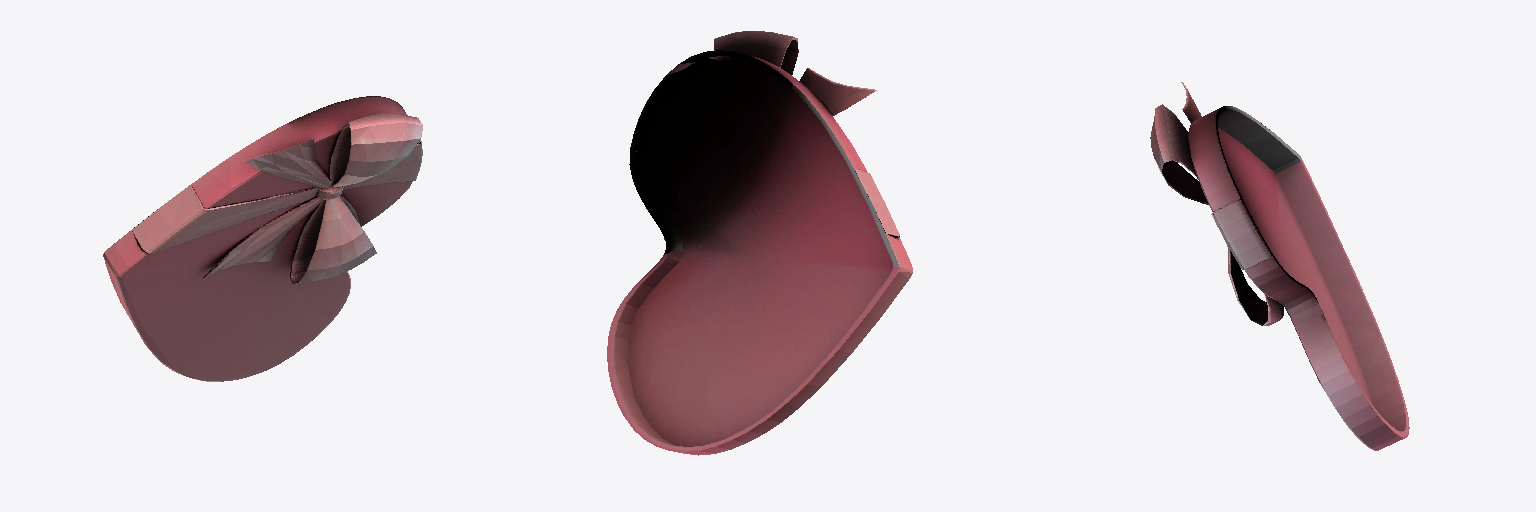
3 renders of one model, left to right at view 1: azimuth 30°, elevation 25°; view 2: azimuth 150°, elevation 25°; view 3: azimuth 270°, elevation 25°, orthographic.
Visible parts, largest first — view 1: dynamic; view 2: dynamic; view 3: dynamic.
Part boxes in pixels (bbox=[...]): dynamic: bbox=[103, 96, 422, 381]; dynamic: bbox=[607, 31, 912, 455]; dynamic: bbox=[1150, 82, 1409, 450].
Size of the model in its own units: 1.33 by 1.51 by 1.05.
1 materials, 1 textured.